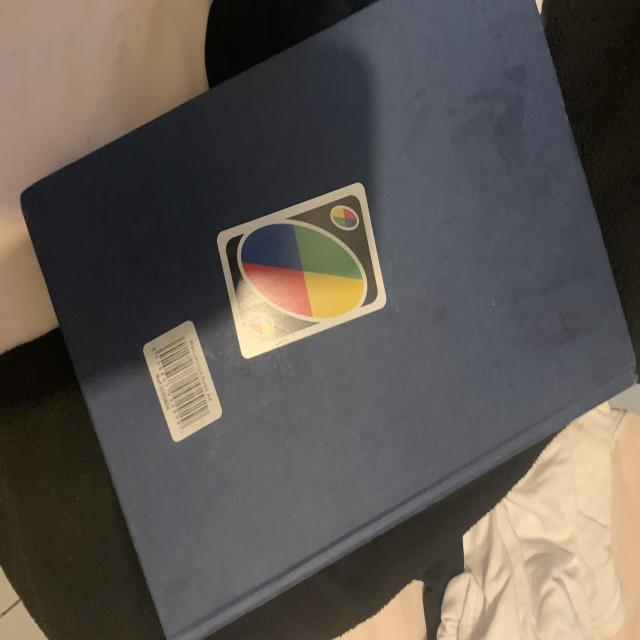lcolor-40: (325, 201, 363, 235)
